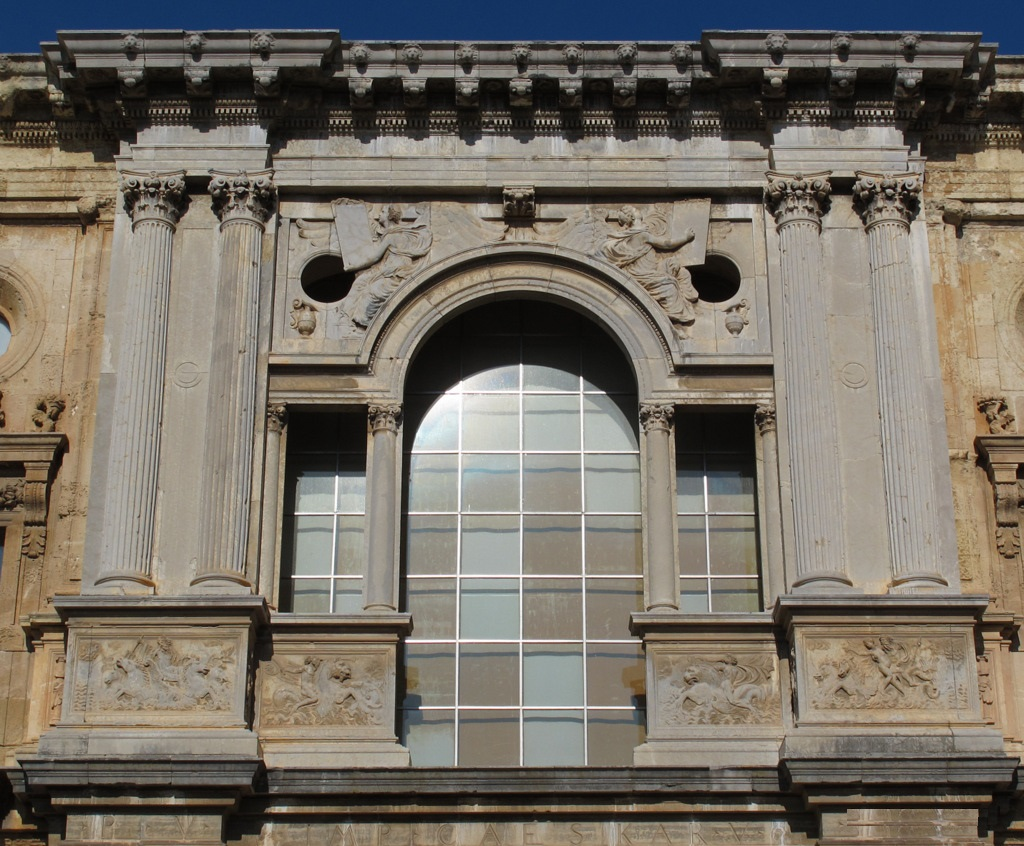serliana: (253, 242, 783, 627)
